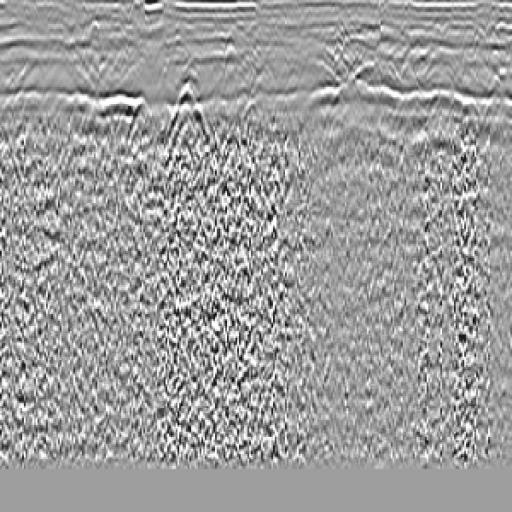metalic: (80, 69, 181, 236), (157, 59, 236, 230)
